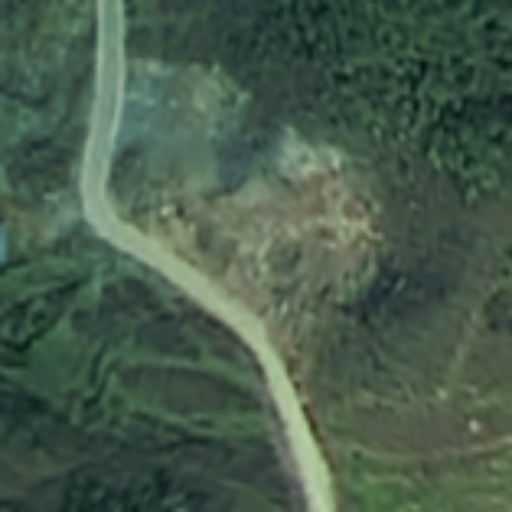landslide: (193, 130, 384, 311)
